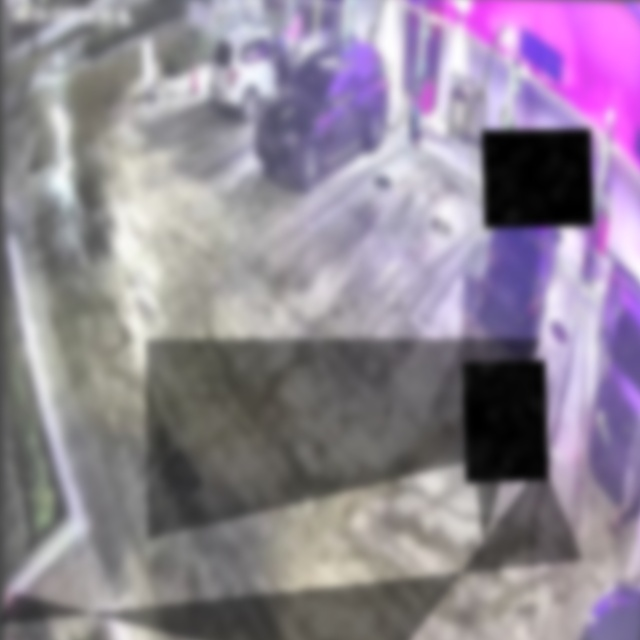Car: (247, 37, 394, 191), (475, 180, 566, 359)
